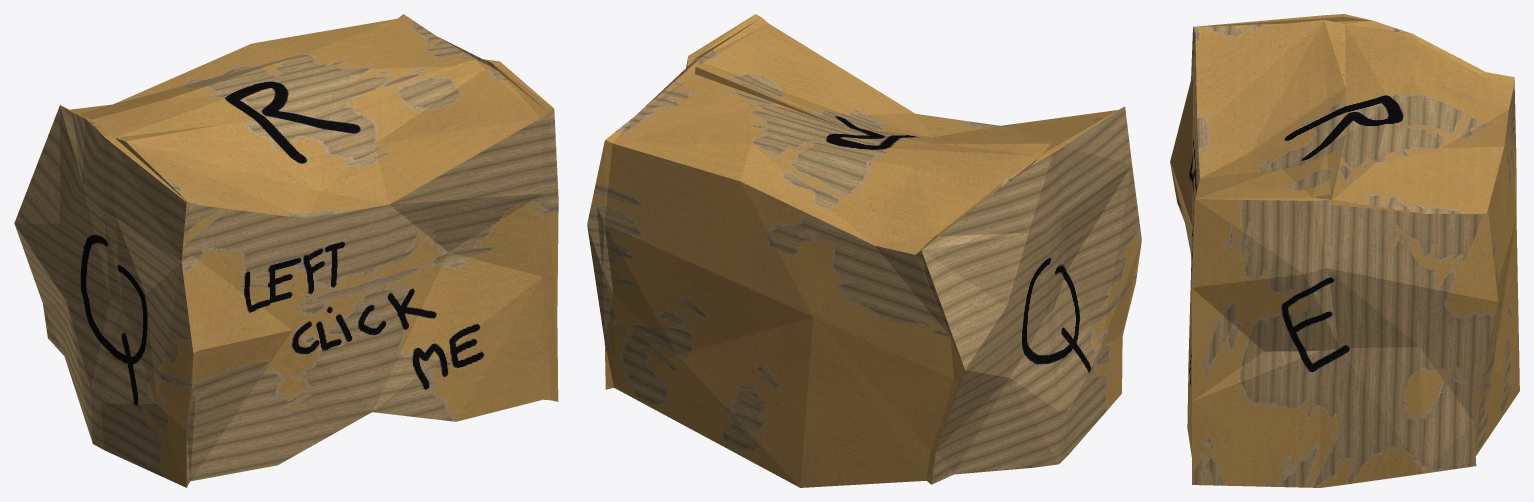
File: boxesSPECIAL.obj
3 renders of one model, left to right at view 1: azimuth 30°, elevation 25°; view 2: azimuth 150°, elevation 25°; view 3: azimuth 270°, elevation 25°, orthographic. The views are drawn at different scales.
Parts seen in each view (by area): view 1: BOX_SPECIAL; view 2: BOX_SPECIAL; view 3: BOX_SPECIAL.
Boxes of the visible parts, x1,y1,x2,y2 form: BOX_SPECIAL: (14, 14, 558, 487); BOX_SPECIAL: (587, 14, 1141, 487); BOX_SPECIAL: (1170, 14, 1519, 487).
Bounding box in the file's own units: 1.56 × 1.14 × 1.21.
